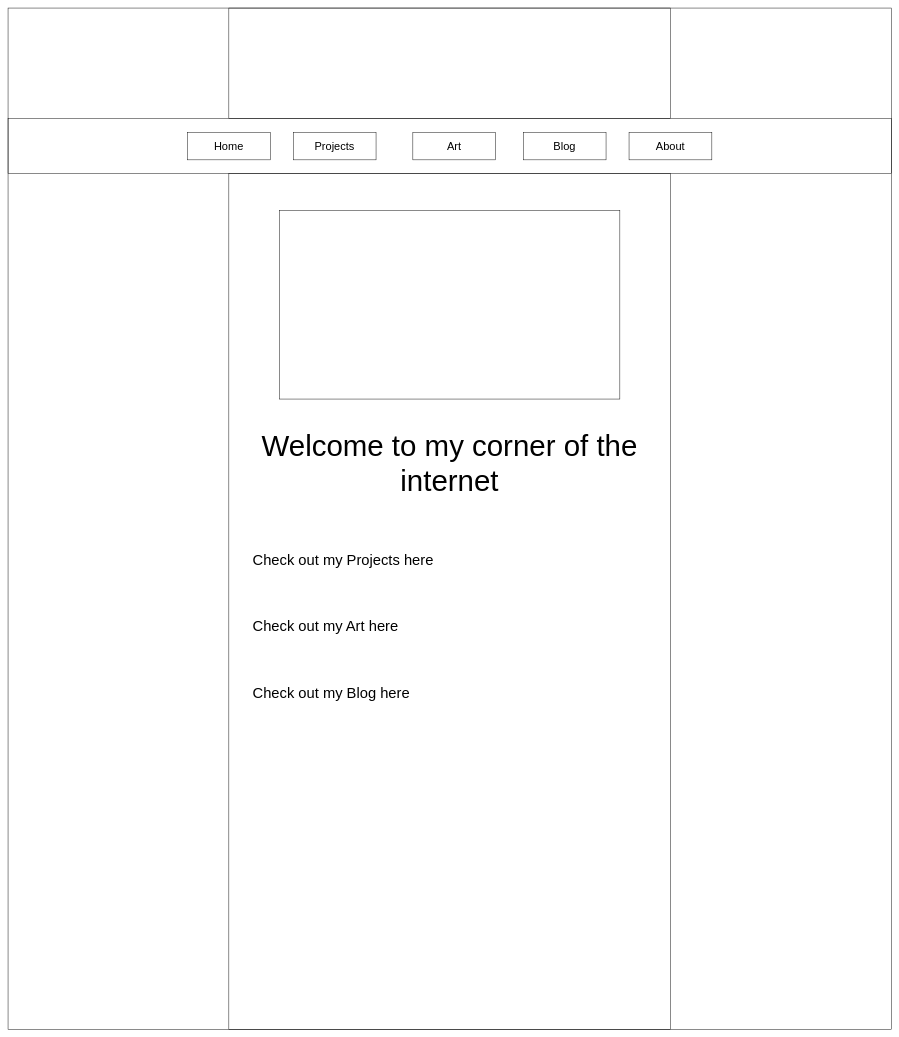
This 899x1037 diagram has some shape labels left out. Here are the shapes that lost their labels. From the top down, the centre of each, then its label:
point (449, 63): James Harris
point (449, 304): Fireplace GIF
